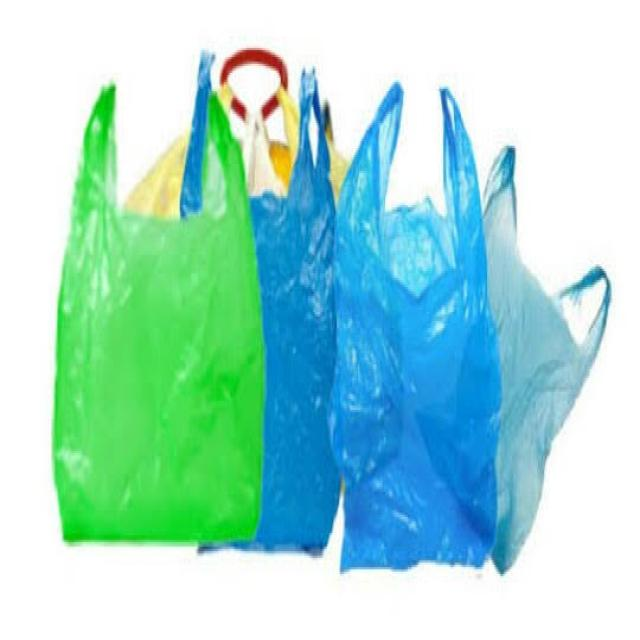residual: (50, 65, 270, 556), (335, 66, 502, 583), (185, 48, 345, 565), (481, 137, 614, 585)
